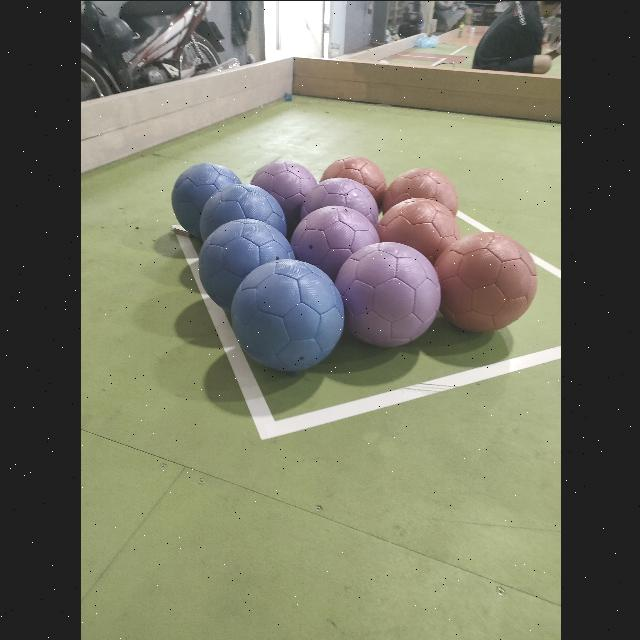B: (231, 258, 343, 369), (200, 218, 292, 310), (171, 162, 241, 236)
P: (334, 241, 440, 345), (292, 204, 380, 282), (250, 160, 316, 234)
R: (434, 230, 536, 330), (378, 194, 458, 272), (381, 167, 457, 215), (320, 156, 386, 208)
